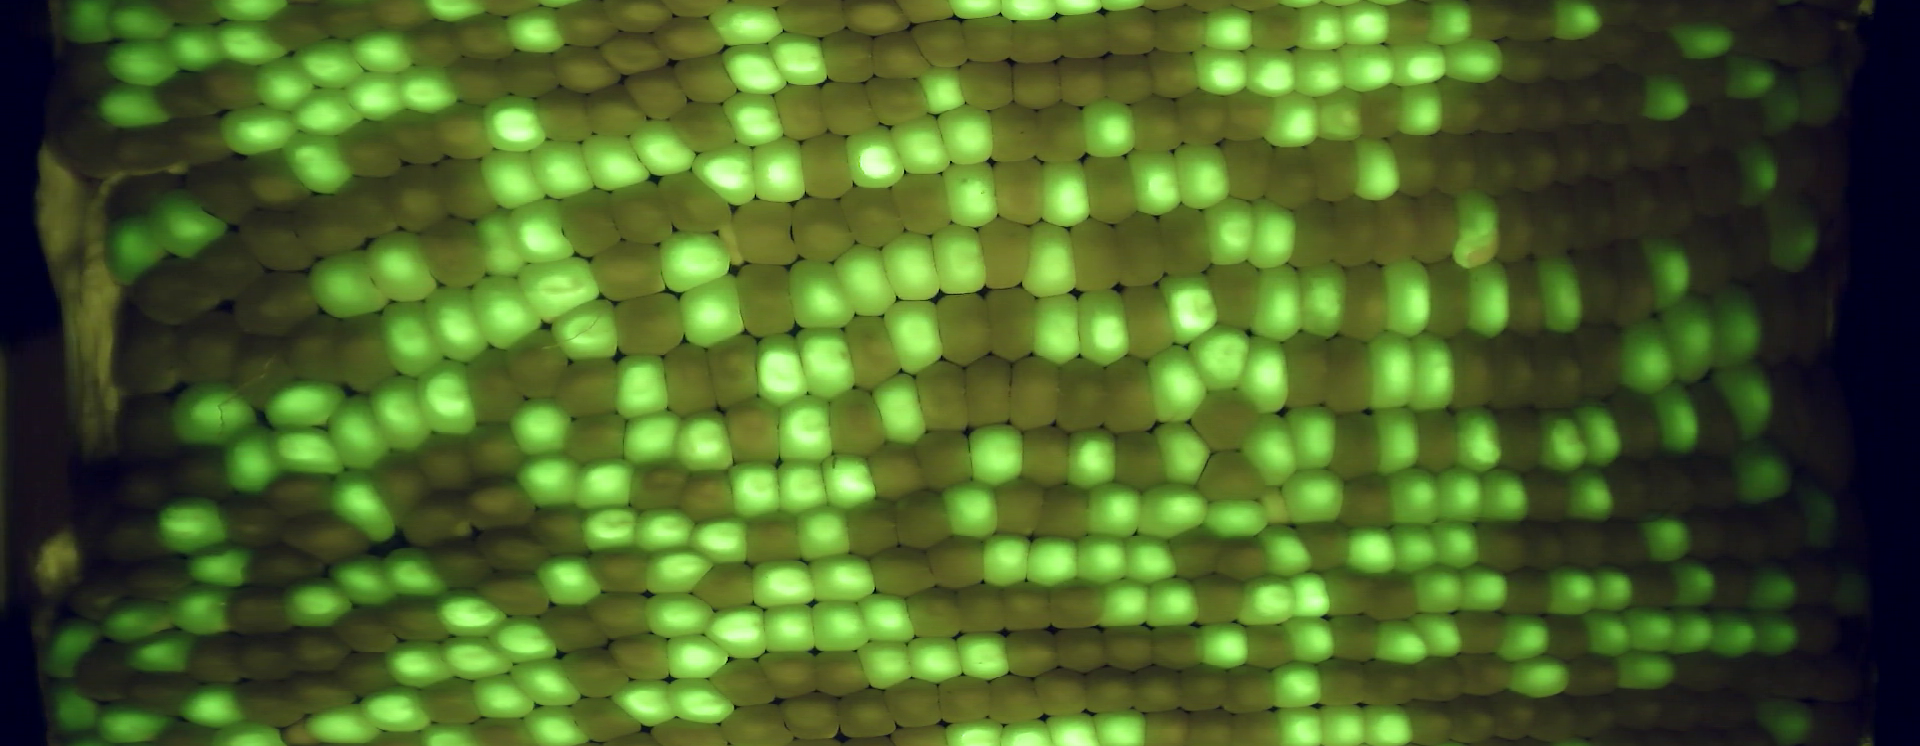fluorescent: (137, 185, 236, 263), (460, 271, 549, 356), (514, 249, 607, 330), (301, 243, 396, 322), (167, 377, 263, 452), (418, 279, 497, 370), (360, 225, 443, 307), (375, 296, 456, 381), (1141, 341, 1217, 429), (673, 269, 749, 355), (97, 208, 171, 295), (1706, 276, 1772, 374), (365, 369, 440, 454), (1657, 292, 1723, 388), (1707, 356, 1780, 443), (1153, 269, 1228, 354), (149, 490, 239, 560), (786, 322, 866, 401), (1763, 187, 1832, 278), (326, 465, 400, 546), (879, 296, 953, 379), (546, 293, 629, 365), (785, 254, 860, 333), (1184, 318, 1256, 401), (1014, 217, 1084, 301), (504, 194, 582, 269), (666, 403, 744, 478), (828, 240, 901, 320), (1531, 247, 1594, 339), (653, 225, 735, 296), (413, 356, 482, 440), (327, 390, 396, 474), (1147, 415, 1220, 494), (746, 330, 816, 410), (1070, 285, 1138, 369), (868, 367, 936, 451), (924, 220, 996, 299), (1724, 439, 1802, 510), (1131, 478, 1217, 543), (261, 420, 351, 481), (264, 371, 351, 435), (1232, 333, 1296, 420), (688, 137, 763, 211), (1240, 408, 1307, 490), (1616, 317, 1681, 401), (280, 127, 358, 197), (879, 228, 947, 307), (959, 419, 1033, 490), (216, 100, 304, 160), (475, 89, 552, 158), (1168, 138, 1237, 216), (1296, 258, 1356, 345), (504, 393, 580, 462), (322, 548, 407, 609), (1379, 256, 1440, 341), (1401, 330, 1461, 415), (469, 203, 531, 285), (1247, 262, 1309, 344), (626, 113, 700, 181), (218, 424, 287, 499), (1122, 145, 1189, 220), (770, 392, 838, 468), (1198, 194, 1262, 272), (377, 541, 456, 606), (1364, 327, 1422, 415), (1640, 230, 1697, 318), (576, 130, 656, 192), (842, 122, 913, 194), (887, 110, 960, 179), (1649, 379, 1709, 462), (98, 36, 189, 91), (1447, 186, 1505, 272), (478, 146, 553, 211), (91, 80, 180, 135), (1026, 292, 1090, 369), (718, 37, 796, 99), (932, 100, 1000, 171), (249, 53, 323, 118), (509, 450, 584, 514), (204, 15, 296, 67), (1461, 254, 1516, 341), (940, 159, 1007, 232), (1033, 158, 1098, 232), (527, 136, 600, 201), (287, 83, 371, 140), (1282, 401, 1344, 477), (1242, 195, 1303, 272), (1532, 405, 1598, 477), (1078, 93, 1142, 165), (609, 350, 673, 423), (289, 36, 369, 94), (720, 86, 793, 149), (431, 583, 511, 642), (748, 134, 811, 208), (1280, 465, 1354, 528), (91, 695, 181, 746), (380, 633, 460, 691), (355, 684, 441, 737), (937, 477, 1007, 543), (620, 408, 692, 472), (1234, 568, 1307, 632), (1341, 134, 1404, 206), (533, 550, 606, 612), (159, 582, 242, 637), (121, 624, 204, 679), (1134, 571, 1209, 632), (802, 597, 877, 658), (638, 588, 726, 639), (801, 552, 883, 608), (1256, 89, 1329, 152), (1380, 464, 1453, 526), (744, 555, 825, 610), (436, 630, 520, 682), (1573, 394, 1631, 472), (767, 27, 838, 89), (1367, 404, 1428, 477), (508, 654, 587, 710), (393, 58, 465, 118), (1063, 423, 1123, 495), (1079, 480, 1151, 540), (699, 601, 771, 661), (661, 671, 743, 724), (640, 543, 719, 598), (175, 677, 253, 733), (94, 595, 180, 646), (344, 65, 413, 127), (38, 676, 107, 739), (626, 503, 703, 559), (1757, 64, 1809, 146), (770, 454, 836, 518), (819, 451, 887, 513), (1425, 463, 1493, 526), (568, 454, 639, 513), (496, 5, 573, 59), (182, 538, 260, 592), (284, 581, 365, 632), (1254, 521, 1318, 586), (36, 615, 98, 681), (1287, 40, 1356, 100), (707, 1, 784, 54), (858, 586, 922, 649), (1793, 61, 1853, 129), (342, 27, 420, 78), (302, 697, 384, 746), (609, 675, 678, 733), (160, 20, 231, 76), (950, 627, 1021, 684), (1633, 511, 1704, 567), (1747, 693, 1823, 746), (1501, 653, 1577, 706), (1791, 477, 1847, 549), (727, 459, 792, 521), (790, 502, 856, 562), (662, 632, 740, 684), (1239, 43, 1303, 104), (1474, 465, 1538, 527), (1381, 36, 1453, 89), (1333, 37, 1403, 92), (469, 670, 544, 722), (1117, 528, 1180, 588), (758, 599, 823, 658), (1068, 530, 1134, 588), (686, 513, 758, 566), (1731, 136, 1784, 208), (855, 636, 922, 692), (1453, 404, 1509, 473), (902, 631, 972, 685), (516, 699, 596, 746), (1265, 657, 1327, 717), (1340, 522, 1403, 581), (489, 609, 560, 661), (1367, 615, 1438, 668), (1613, 646, 1685, 697), (1191, 619, 1260, 673), (1662, 554, 1725, 611), (1199, 497, 1277, 544), (574, 502, 647, 552), (1440, 34, 1509, 87), (1093, 575, 1156, 632), (1188, 44, 1251, 100), (1638, 67, 1695, 131), (1542, 561, 1607, 616), (1716, 53, 1787, 103), (1663, 20, 1744, 64), (103, 1, 181, 47), (912, 60, 971, 120), (1280, 612, 1343, 668), (1021, 534, 1082, 590), (1565, 462, 1621, 523), (1619, 605, 1687, 655), (1491, 612, 1561, 661), (1457, 560, 1517, 616), (1407, 610, 1469, 664), (1291, 1, 1353, 55), (51, 1, 118, 51), (980, 527, 1035, 587), (1745, 608, 1806, 661), (1703, 608, 1766, 660), (1739, 563, 1805, 612), (1580, 608, 1643, 658), (1336, 1, 1400, 51), (1387, 519, 1444, 576), (1409, 562, 1469, 615), (1396, 78, 1449, 138), (1354, 699, 1422, 746), (1826, 562, 1880, 620), (1318, 88, 1370, 147), (1198, 6, 1259, 56), (1660, 606, 1722, 657), (1419, 1, 1480, 50), (1427, 516, 1480, 571), (1267, 698, 1329, 746), (1087, 706, 1157, 746), (1315, 698, 1374, 746), (1547, 1, 1608, 47), (1586, 561, 1640, 611), (1288, 570, 1338, 622), (203, 717, 291, 746), (1040, 707, 1104, 746), (939, 715, 1014, 746), (415, 718, 491, 746), (206, 1, 298, 24), (991, 1, 1068, 28), (997, 718, 1065, 746), (418, 1, 491, 26), (944, 1, 1011, 26), (1044, 1, 1107, 20)
nonfluorescent: (118, 254, 224, 333), (224, 266, 327, 348), (1799, 366, 1865, 491), (40, 100, 126, 190), (104, 314, 189, 401), (233, 200, 323, 279), (1749, 265, 1811, 376), (1764, 363, 1828, 472), (162, 306, 244, 391), (284, 187, 373, 263), (326, 307, 399, 396), (1587, 21, 1692, 82), (413, 214, 491, 296), (725, 194, 806, 272), (500, 325, 578, 405), (380, 159, 457, 241), (587, 235, 678, 304), (185, 232, 273, 303), (460, 342, 531, 430), (182, 154, 264, 230), (653, 165, 737, 239), (549, 184, 628, 261), (609, 289, 692, 363), (655, 338, 729, 421), (909, 355, 980, 441), (331, 111, 410, 187), (718, 393, 793, 473), (64, 633, 143, 709), (324, 170, 408, 243), (279, 507, 375, 570), (1487, 328, 1554, 416), (732, 258, 804, 341), (365, 450, 435, 534), (225, 328, 294, 414), (782, 192, 860, 268), (1682, 376, 1750, 463), (1682, 212, 1749, 300), (699, 330, 768, 414), (1097, 352, 1163, 439), (96, 167, 191, 227), (1187, 386, 1265, 458), (546, 352, 626, 423), (1051, 352, 1116, 439), (396, 488, 482, 552), (283, 305, 351, 387), (104, 122, 200, 181), (841, 312, 909, 396), (1108, 205, 1171, 294), (160, 435, 239, 506), (1319, 330, 1379, 421), (429, 93, 503, 167), (931, 287, 996, 371), (836, 183, 913, 254), (456, 472, 542, 534), (1526, 327, 1588, 414), (44, 39, 126, 105), (1153, 198, 1220, 281), (236, 143, 313, 213), (822, 385, 891, 462), (1117, 281, 1180, 365), (1569, 318, 1633, 401), (1567, 244, 1629, 331), (605, 176, 677, 250), (111, 396, 186, 467), (426, 156, 502, 225), (410, 428, 486, 497), (471, 523, 560, 583), (1445, 323, 1502, 415), (97, 502, 175, 570), (958, 350, 1019, 436), (102, 450, 182, 514), (1604, 236, 1660, 330), (1607, 383, 1670, 465), (684, 559, 771, 619), (159, 111, 247, 170), (884, 168, 958, 238), (1004, 348, 1063, 435), (1407, 403, 1472, 481), (664, 96, 743, 159), (1335, 261, 1397, 342), (887, 483, 958, 554), (470, 563, 556, 622), (214, 486, 290, 552), (1280, 196, 1343, 274), (909, 428, 981, 496), (855, 71, 936, 132), (377, 105, 451, 173), (234, 540, 326, 594), (1190, 448, 1270, 510), (1640, 450, 1709, 519), (463, 416, 530, 489), (1027, 480, 1100, 548), (1809, 119, 1859, 216), (1081, 149, 1141, 230), (740, 507, 814, 572), (1216, 134, 1280, 209), (983, 282, 1040, 367), (1068, 214, 1127, 296), (1564, 171, 1622, 254), (261, 462, 338, 524), (558, 409, 636, 472), (120, 668, 209, 722), (219, 582, 302, 639), (1771, 120, 1828, 203), (530, 80, 599, 149), (864, 437, 934, 506), (190, 54, 269, 114), (1403, 185, 1463, 265), (986, 154, 1051, 228), (1686, 145, 1750, 219), (615, 65, 696, 124), (1789, 265, 1833, 372), (102, 552, 198, 601), (1107, 424, 1172, 496), (1500, 254, 1554, 341), (1489, 183, 1544, 267), (1202, 256, 1264, 332), (797, 126, 857, 203), (536, 597, 613, 657), (863, 541, 940, 601), (1329, 407, 1389, 484), (649, 9, 731, 65), (1727, 201, 1783, 283), (1527, 178, 1583, 260), (1771, 6, 1839, 73), (230, 673, 310, 730), (830, 682, 906, 742), (1281, 331, 1337, 412), (814, 75, 885, 138), (583, 73, 647, 145), (842, 492, 906, 563), (1467, 514, 1538, 578), (1304, 135, 1367, 207), (378, 592, 457, 649), (547, 40, 627, 97), (411, 671, 487, 730), (980, 668, 1056, 726), (220, 628, 301, 684), (1780, 546, 1848, 612), (1679, 446, 1745, 513), (975, 214, 1032, 292), (1329, 192, 1386, 269), (1608, 163, 1665, 240), (878, 673, 950, 734), (489, 45, 567, 102), (584, 587, 662, 643), (580, 544, 659, 600), (556, 643, 634, 699), (707, 655, 785, 712), (1433, 129, 1491, 203), (55, 570, 138, 622), (567, 693, 650, 746), (1171, 85, 1236, 152), (1030, 99, 1093, 168), (1013, 423, 1076, 491), (1469, 130, 1531, 201), (626, 454, 698, 514), (594, 27, 676, 80), (148, 66, 227, 121), (1371, 189, 1427, 267), (438, 53, 513, 110), (1581, 118, 1646, 184), (1444, 649, 1523, 703), (1423, 257, 1474, 341), (670, 50, 746, 107), (905, 13, 976, 73), (778, 686, 849, 746), (1384, 127, 1444, 198), (1261, 142, 1320, 214), (274, 624, 359, 674), (715, 695, 797, 746), (180, 627, 245, 692), (1507, 127, 1571, 194), (1123, 94, 1191, 156), (444, 10, 520, 65), (421, 537, 497, 592), (1646, 160, 1701, 236), (599, 631, 680, 682), (1516, 462, 1582, 524), (757, 646, 825, 706), (1480, 73, 1540, 142), (323, 603, 403, 654), (328, 647, 404, 701), (1216, 661, 1287, 719), (808, 643, 880, 699), (1434, 73, 1498, 137), (1592, 58, 1656, 121), (769, 80, 831, 145), (954, 56, 1020, 118), (1029, 661, 1096, 722), (1600, 454, 1659, 523), (524, 505, 594, 562), (933, 673, 1003, 730), (953, 12, 1024, 69), (1704, 93, 1776, 149), (287, 668, 366, 718), (1337, 470, 1401, 533), (1215, 85, 1281, 145), (866, 26, 934, 83), (1044, 575, 1113, 632), (1554, 119, 1607, 194), (924, 534, 994, 590), (1289, 521, 1359, 577), (675, 465, 738, 527), (987, 477, 1051, 538), (1755, 495, 1816, 559), (1494, 405, 1548, 478), (984, 100, 1043, 167), (902, 583, 969, 642), (1044, 9, 1116, 62), (817, 26, 879, 87), (1188, 568, 1250, 630), (1787, 603, 1850, 663), (1358, 568, 1423, 627), (1625, 114, 1690, 173), (1125, 661, 1194, 717), (998, 578, 1059, 639), (1811, 650, 1873, 710), (1513, 514, 1576, 575), (1166, 524, 1229, 583), (1239, 619, 1303, 677), (1211, 530, 1276, 588), (1408, 652, 1473, 709), (549, 1, 624, 50), (1004, 13, 1071, 69), (1560, 688, 1627, 744), (1144, 40, 1204, 102), (1354, 78, 1413, 141), (1321, 609, 1386, 665), (262, 2, 336, 51), (1536, 606, 1597, 665), (1596, 513, 1657, 572), (1494, 36, 1567, 85), (1704, 552, 1762, 615), (1483, 687, 1547, 744), (1450, 606, 1513, 663), (1723, 510, 1787, 566), (1733, 10, 1798, 65), (1000, 624, 1067, 677), (768, 1, 858, 40), (1553, 517, 1620, 570), (1093, 621, 1162, 673), (1172, 660, 1236, 715), (1320, 565, 1384, 620), (1147, 621, 1212, 675), (1311, 655, 1376, 709), (1100, 5, 1166, 58), (1826, 7, 1878, 73), (1008, 58, 1067, 116), (1622, 560, 1685, 615), (593, 1, 677, 42), (1051, 55, 1109, 113), (1098, 51, 1158, 108), (953, 579, 1014, 635), (1556, 73, 1619, 127), (1673, 53, 1735, 107), (1547, 34, 1613, 85), (1523, 73, 1578, 134), (1245, 1, 1307, 55), (1360, 657, 1424, 708), (1051, 622, 1116, 673), (310, 1, 383, 45), (1149, 5, 1210, 58), (1082, 666, 1144, 719), (1398, 696, 1466, 744), (1502, 565, 1558, 622), (403, 16, 463, 69), (1684, 507, 1739, 563), (1670, 649, 1740, 693), (1720, 650, 1783, 699), (1499, 1, 1566, 47), (1769, 650, 1824, 706), (1668, 105, 1727, 157), (1651, 682, 1704, 737), (1802, 699, 1866, 746), (836, 1, 909, 42), (1689, 688, 1761, 729), (362, 1, 444, 37), (1444, 695, 1500, 746), (1564, 649, 1627, 695), (1381, 1, 1440, 50), (1615, 690, 1674, 739), (1524, 696, 1586, 742), (1223, 706, 1288, 746), (1466, 1, 1520, 47), (711, 212, 752, 272), (1180, 706, 1236, 746), (1629, 1, 1691, 37), (148, 1, 227, 29), (1138, 708, 1195, 746), (468, 717, 540, 746), (889, 1, 959, 29), (1593, 1, 1649, 32), (658, 1, 732, 21)
